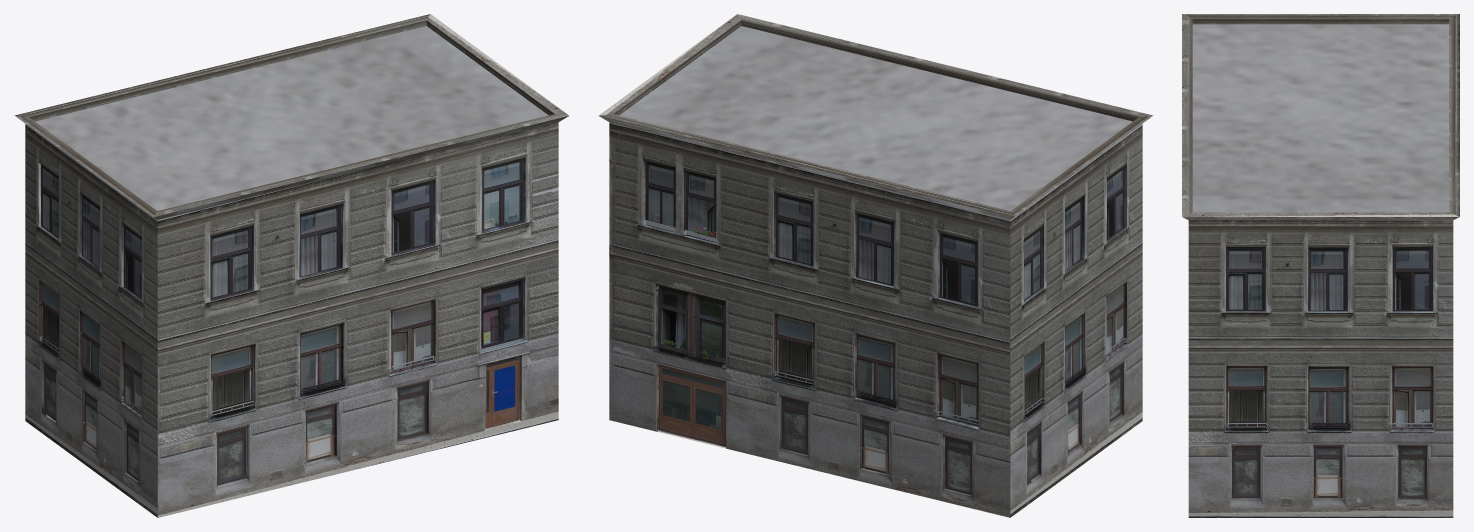
Rendered from edificio_4.glb.
3 renders of one model, left to right at view 1: azimuth 30°, elevation 25°; view 2: azimuth 150°, elevation 25°; view 3: azimuth 270°, elevation 25°, orthographic.
Parts seen in each view (by area): view 1: Material_001-material; view 2: Material_001-material; view 3: Material_001-material.
Part boxes in pixels (bbox=[...]): Material_001-material: bbox=[14, 14, 569, 517]; Material_001-material: bbox=[598, 14, 1153, 517]; Material_001-material: bbox=[1182, 14, 1459, 517].
Bounding box in the file's own units: 11.41 × 7.99 × 6.6.
Materials: 1 (1 with a texture image).
